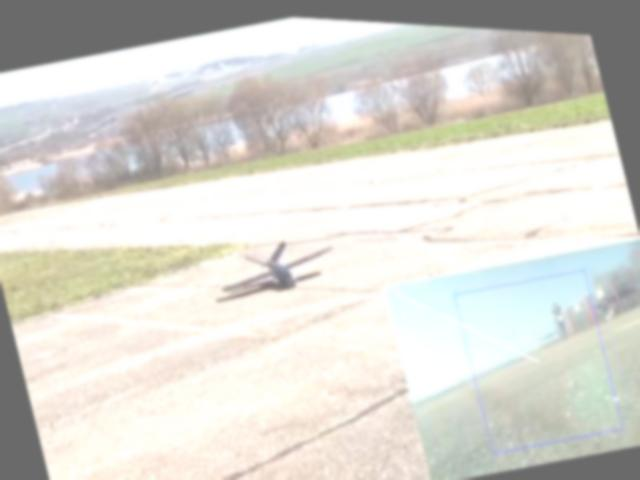uav: (210, 222, 342, 303)
